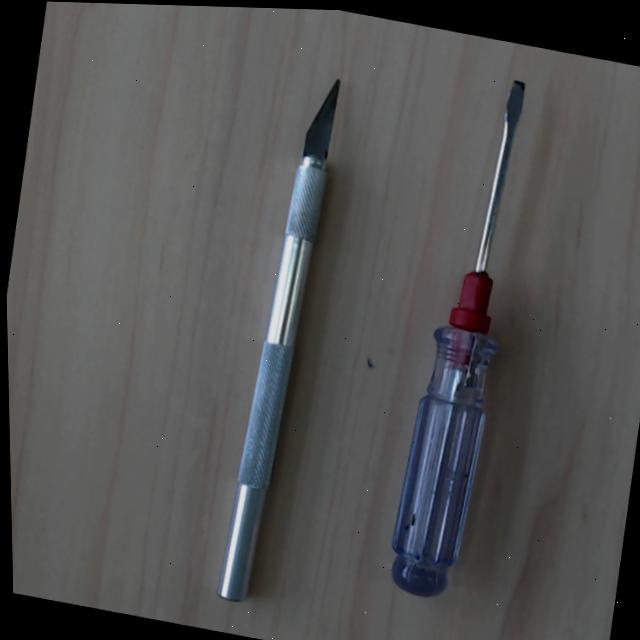Cutter-Kecil: (215, 75, 345, 603)
Obeng-Kecil: (384, 74, 546, 600)
